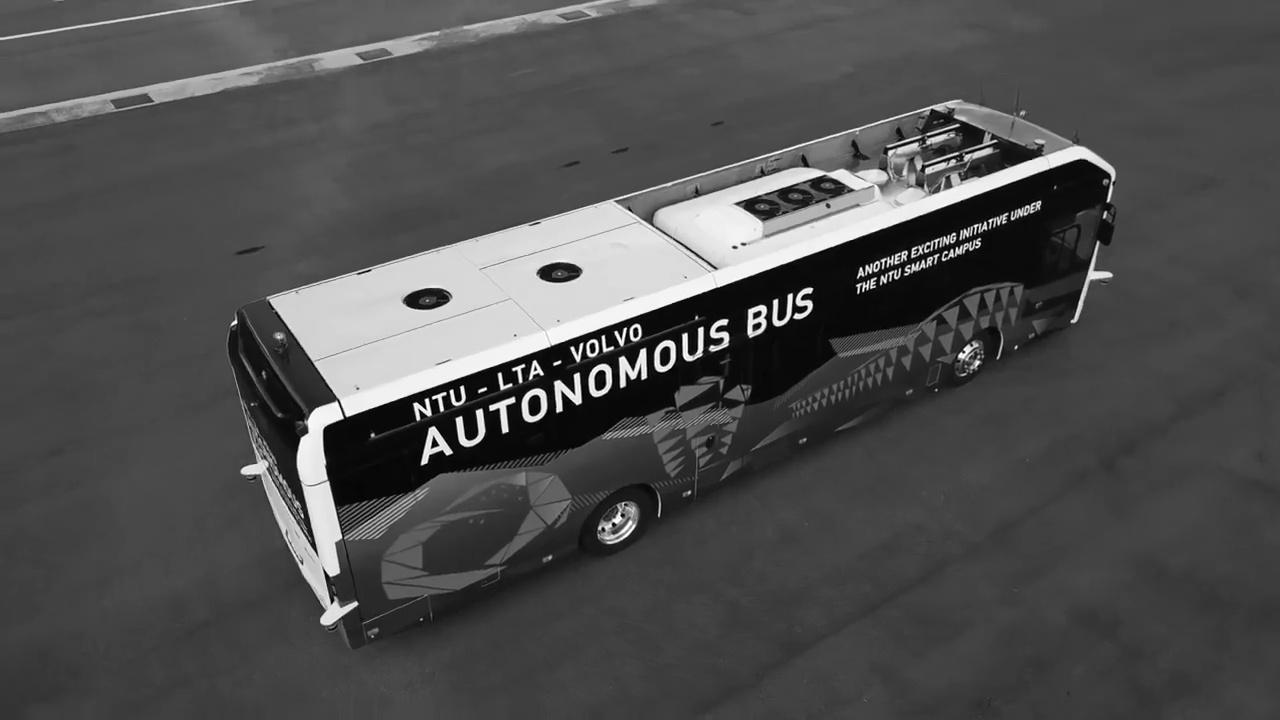Bus: (225, 91, 1118, 651)
